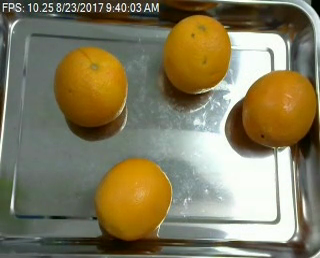Orange: (93, 159, 173, 239), (55, 45, 129, 126), (241, 71, 316, 148), (163, 13, 231, 93)
